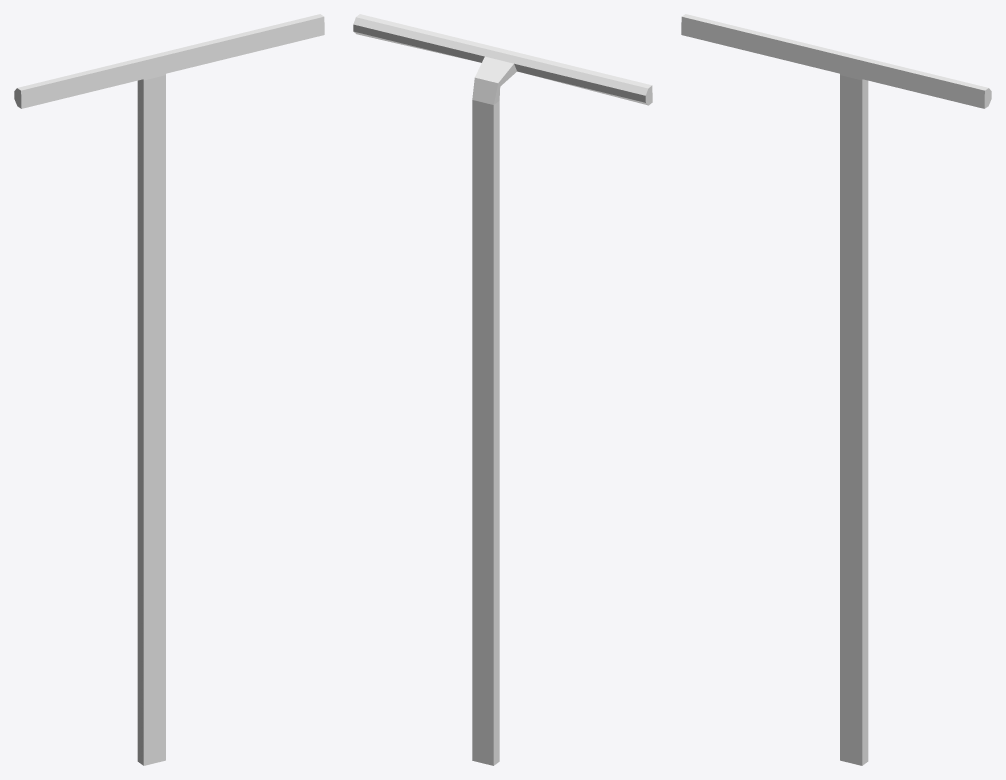
The model's file is DesertBannerHolder.glb.
3 renders of one model, left to right at view 1: azimuth 30°, elevation 25°; view 2: azimuth 150°, elevation 25°; view 3: azimuth 330°, elevation 25°, orthographic. The views are drawn at different scales.
Visible parts, largest first — view 1: DesertBannerHolder; view 2: DesertBannerHolder; view 3: DesertBannerHolder.
Part boxes in pixels (box(x1,y1,x2,y2)): DesertBannerHolder: box(14, 14, 324, 765); DesertBannerHolder: box(353, 14, 652, 765); DesertBannerHolder: box(681, 14, 991, 765).
Bounding box in the file's own units: 2.23 × 5.08 × 0.3111.
1 material, 1 textured.
